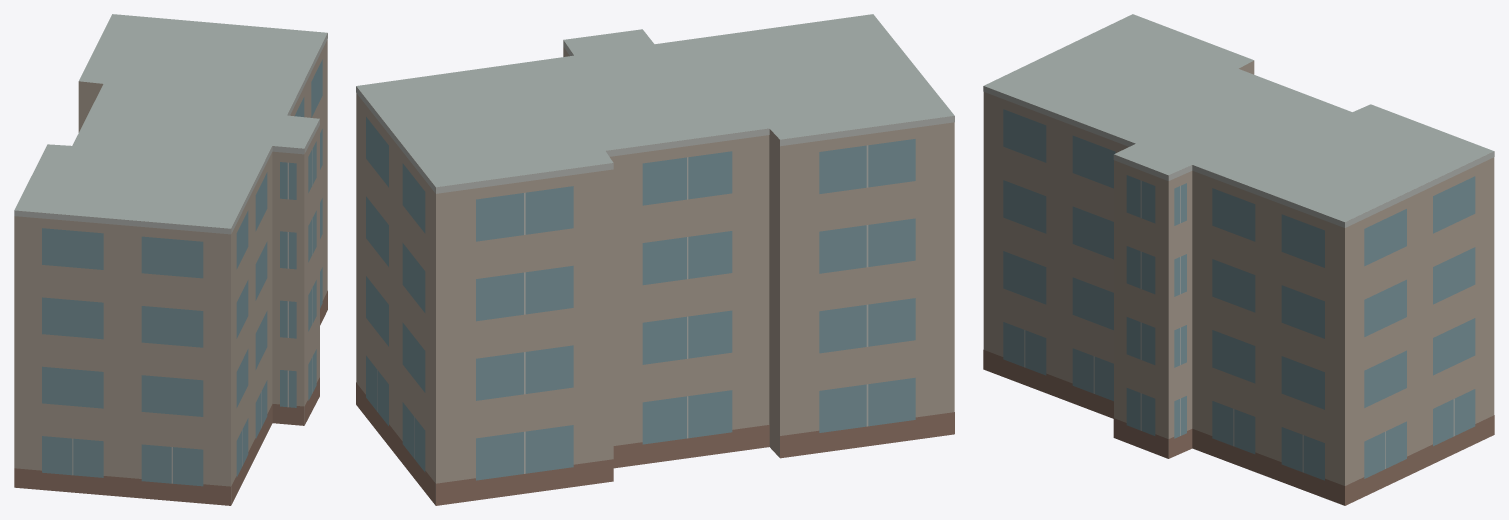
Rendered from survey-upis-32983206.glb.
The picture shows the model from 3 angles, left to right: view 1: azimuth 30°, elevation 25°; view 2: azimuth 150°, elevation 25°; view 3: azimuth 270°, elevation 25°; orthographic projection. The views are drawn at different scales.
Visible parts, largest first — view 1: survey-upis-32983206.tmp; view 2: survey-upis-32983206.tmp; view 3: survey-upis-32983206.tmp.
Boxes of the visible parts, bbox=[...] form: survey-upis-32983206.tmp: bbox=[14, 14, 327, 505]; survey-upis-32983206.tmp: bbox=[356, 14, 954, 505]; survey-upis-32983206.tmp: bbox=[983, 14, 1494, 505].
Size of the model in its own units: 18.76 by 11.9 by 19.44.
